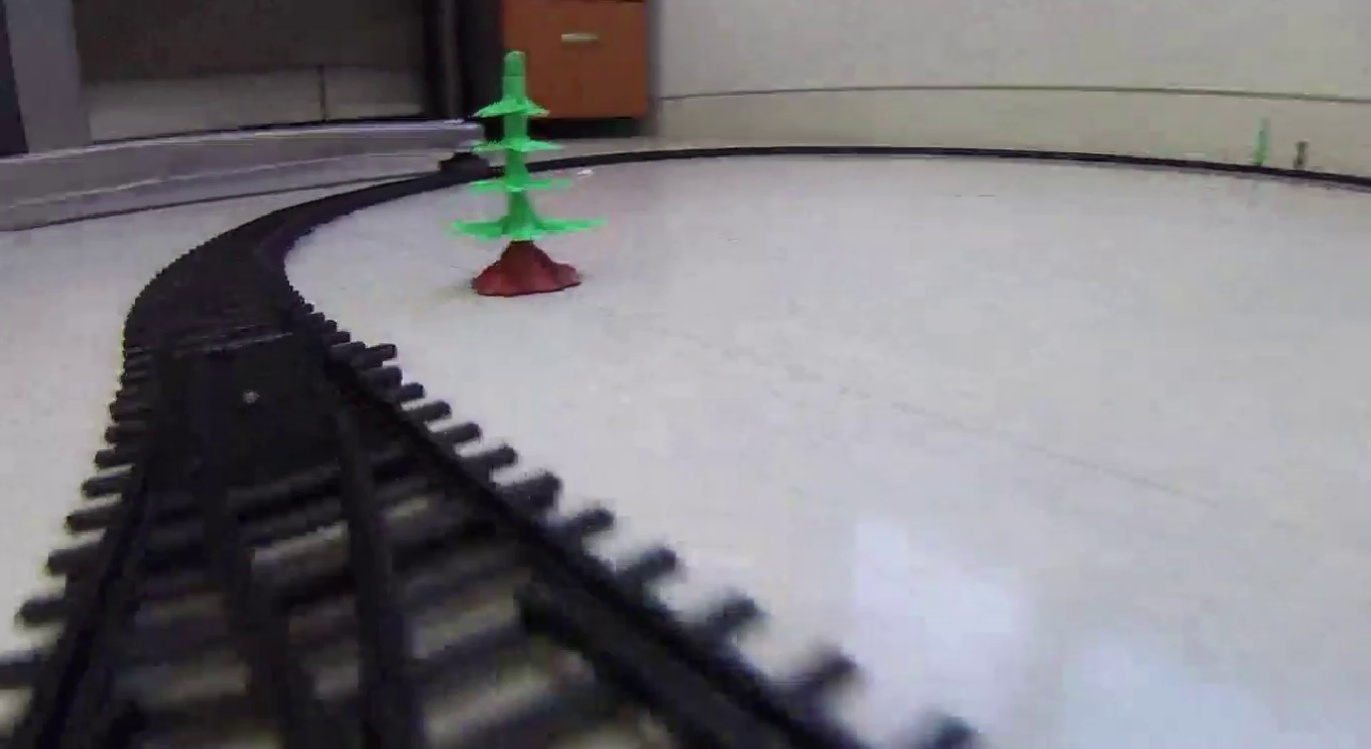tree: (447, 47, 599, 293)
